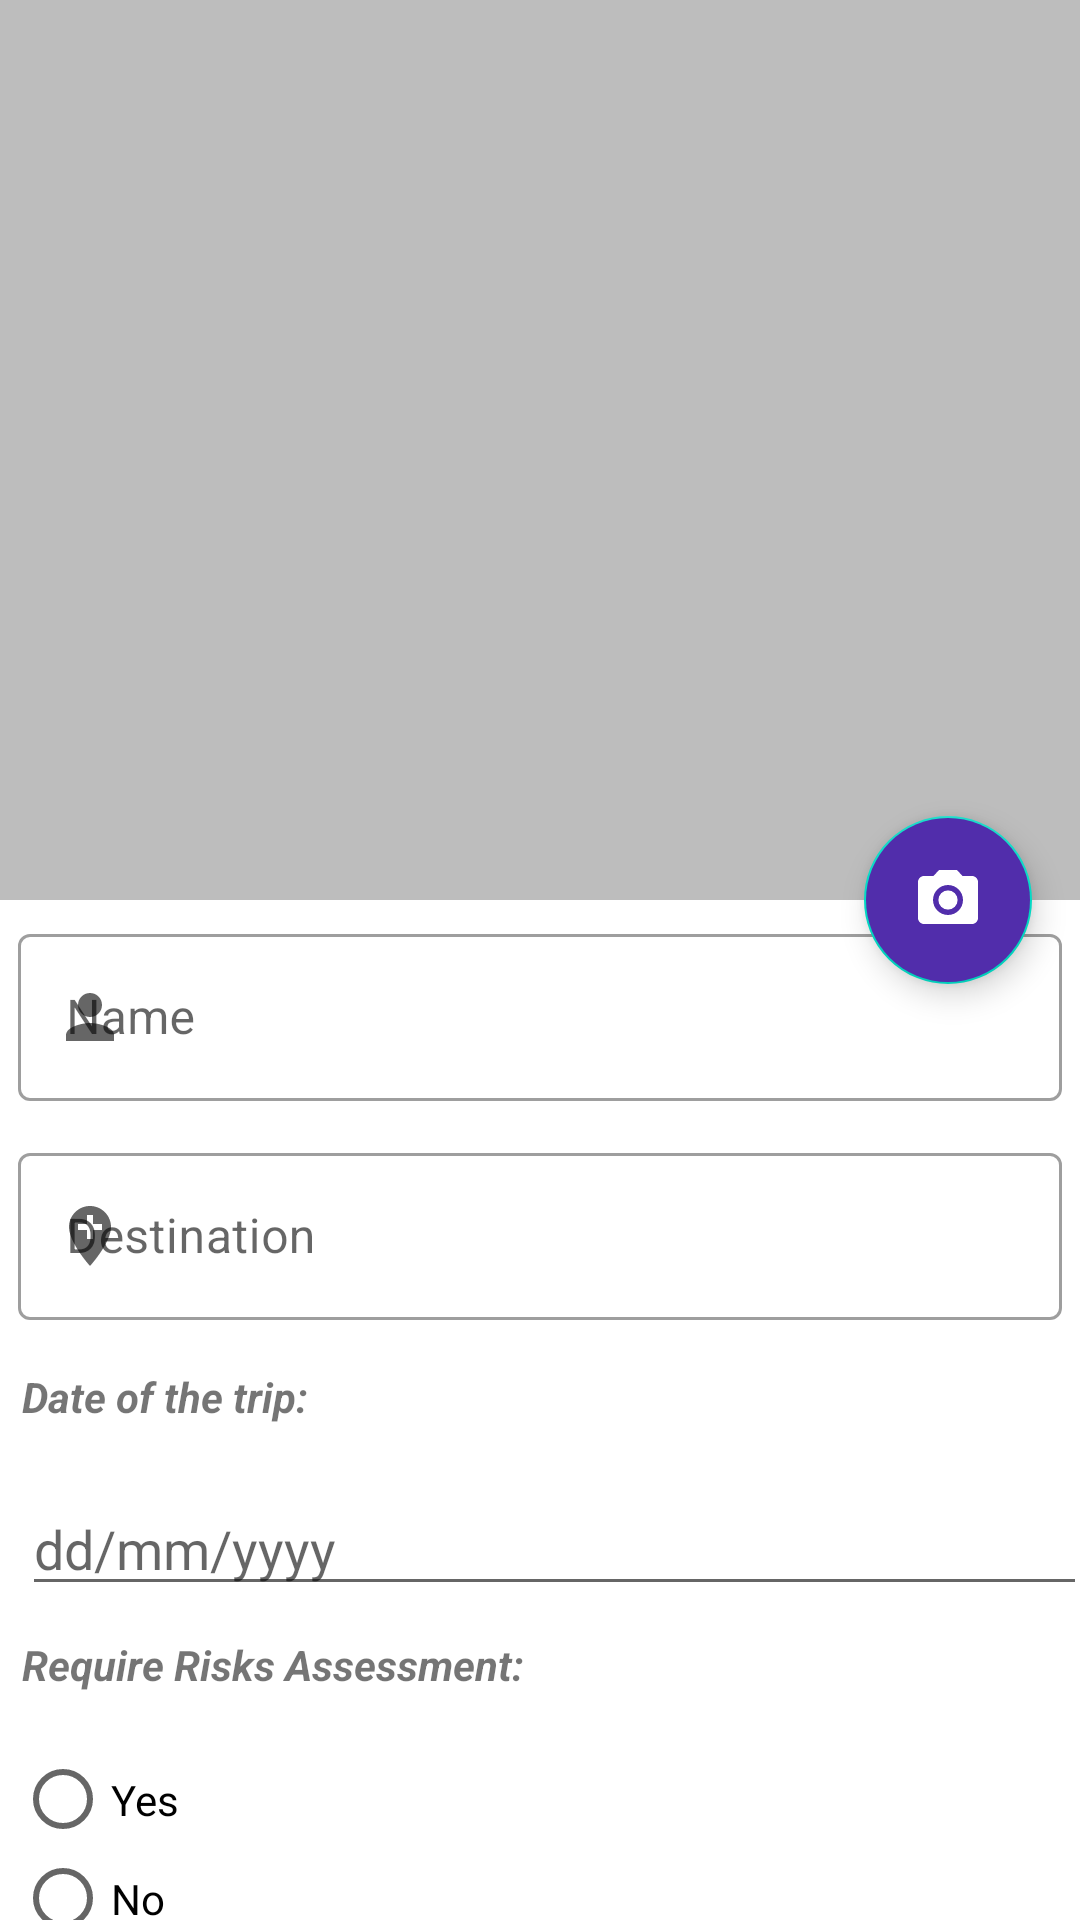

Icon click points for this 1080x1920 phone screenshot, format point (x, y):
camera: point (948, 900)
